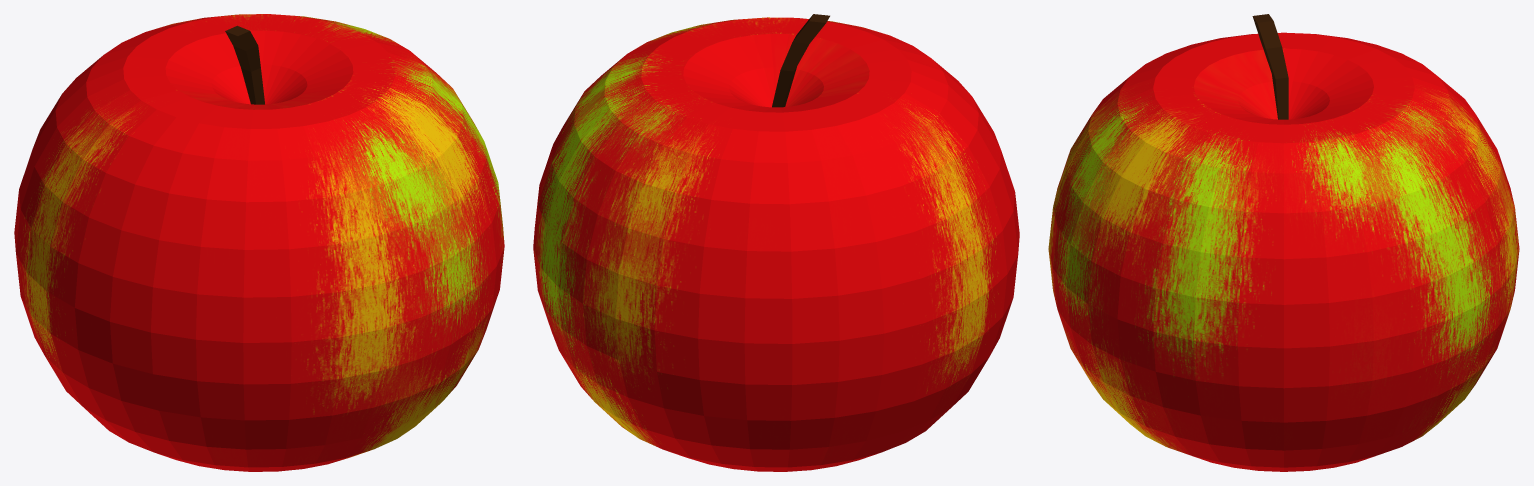
The model's file is jabłko.fbx.
3 renders of one model, left to right at view 1: azimuth 30°, elevation 25°; view 2: azimuth 150°, elevation 25°; view 3: azimuth 270°, elevation 25°, orthographic. The views are drawn at different scales.
Visible parts, largest first — view 1: Sphere, Cube; view 2: Sphere, Cube; view 3: Sphere, Cube.
Boxes of the visible parts, x1,y1,x2,y2 form: Sphere: (14,14,504,471); Cube: (225,25,264,104); Sphere: (533,17,1019,471); Cube: (772,14,829,107); Sphere: (1048,32,1519,471); Cube: (1252,14,1288,119).
Bounding box in the file's own units: 200 × 183 × 200.
